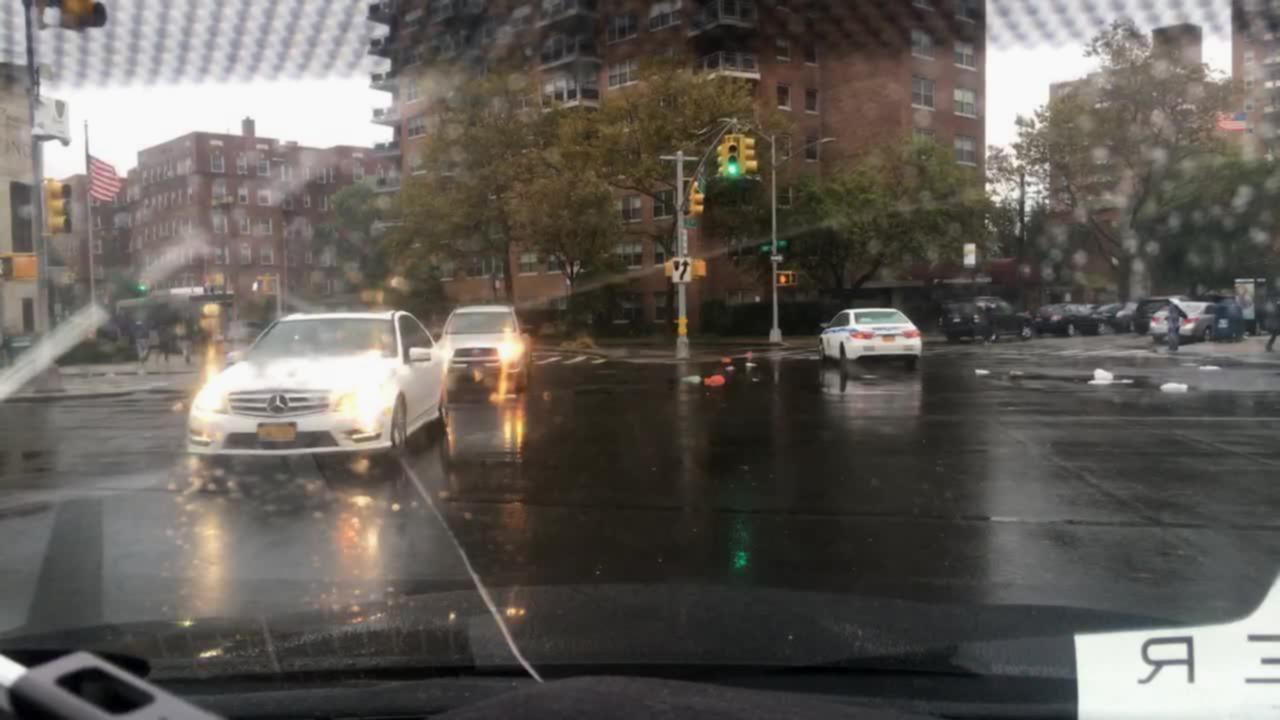Mercedes: (266, 393, 291, 415)
